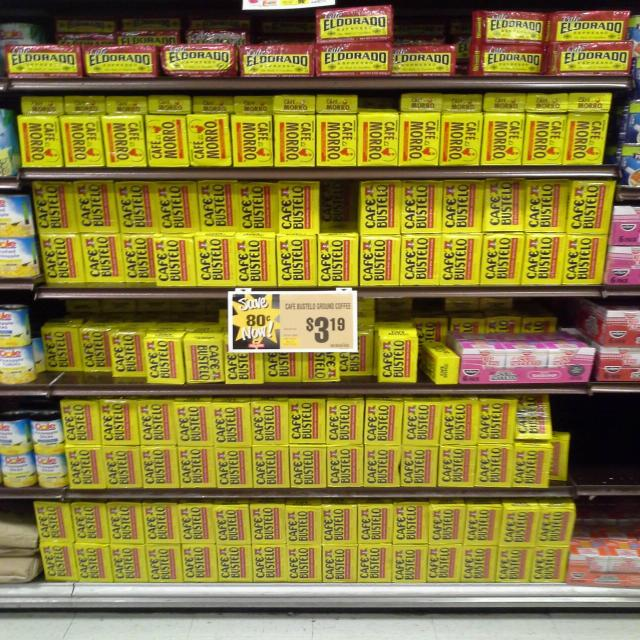empty_space: (580, 408, 640, 487)
